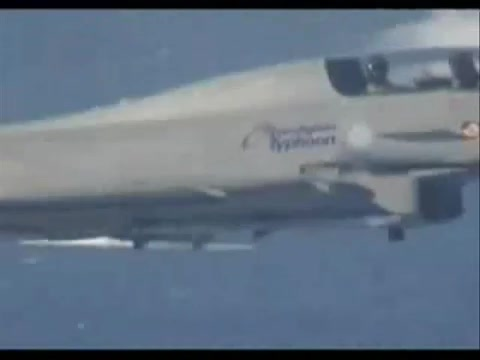aeroplane: (1, 44, 479, 255)
